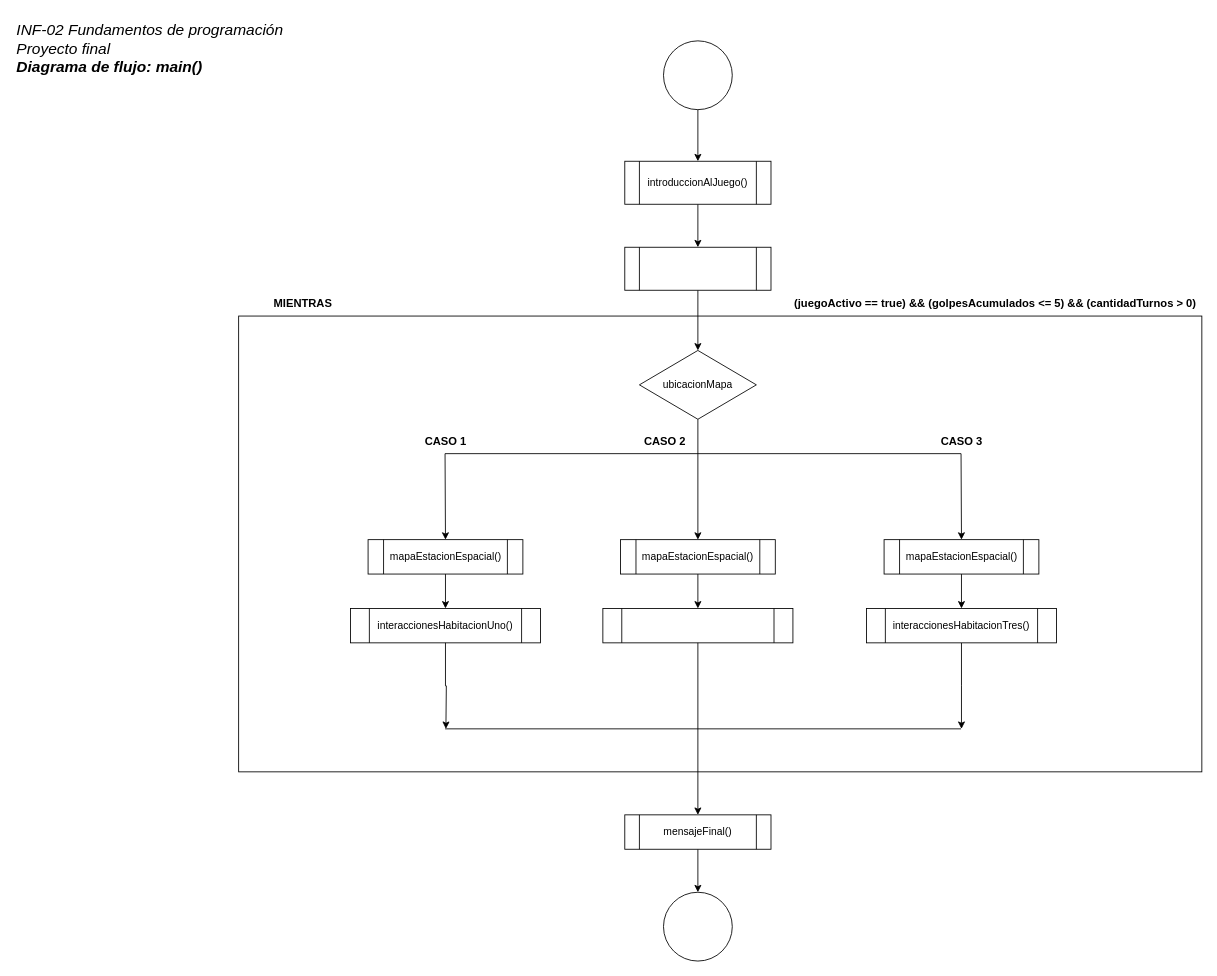
Some shapes in this 1217 by 976 pixel diagram are drawn without their labels. The shapes that lost their labels are listed below. From the top down, each one's box as (x1, y1, x2, y2) in pixels, then its label:
(663, 40, 732, 110): Inicio
(624, 246, 771, 290): reglasGenerales()
(602, 608, 793, 643): interaccionesHabitacionDos()
(663, 891, 732, 961): Fin
